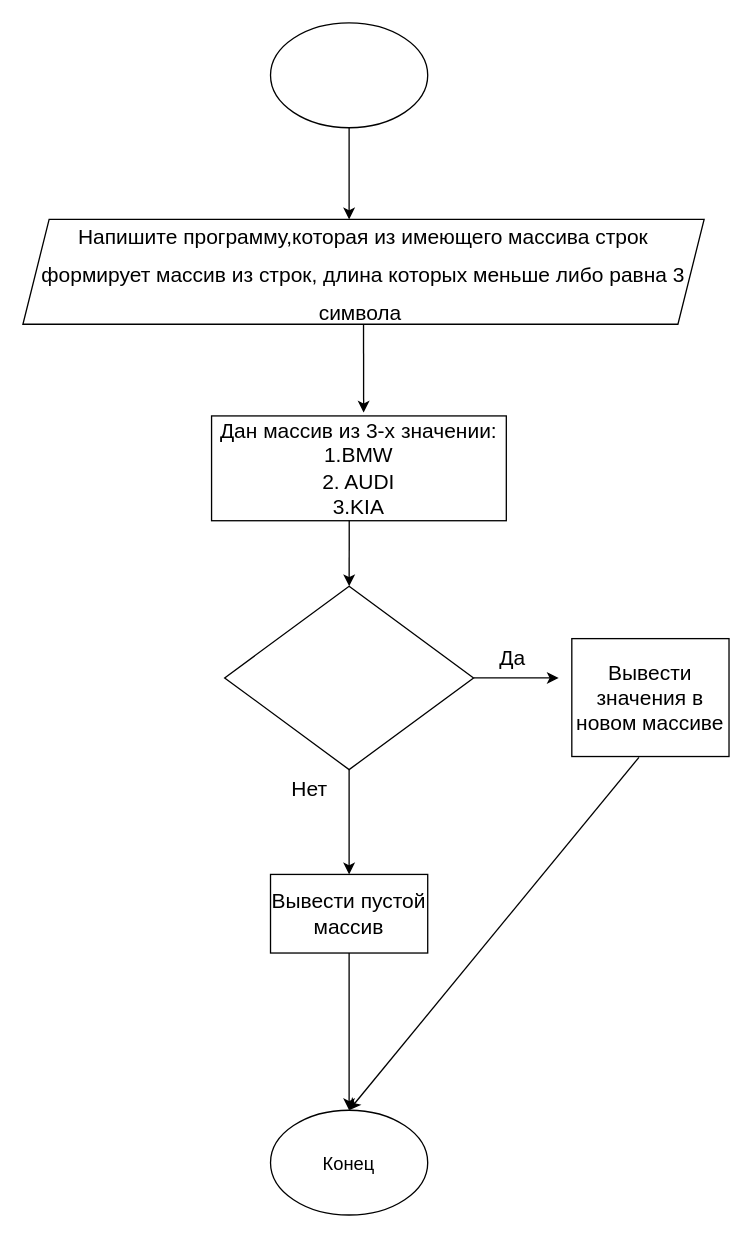
The diagram is 752 pixels wide and 1238 high, and some of its shapes have lost their labels. Here are the shapes that lost their labels. From the top down, the box of each, then its label:
(269, 22, 428, 128): Начало
(223, 585, 474, 770): Длина символов <=3
